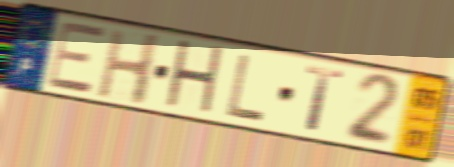2: (345, 71, 404, 146)
E: (45, 20, 108, 96)
H: (94, 27, 164, 108), (161, 36, 227, 120)
L: (224, 52, 267, 125)
T: (303, 64, 347, 135)
